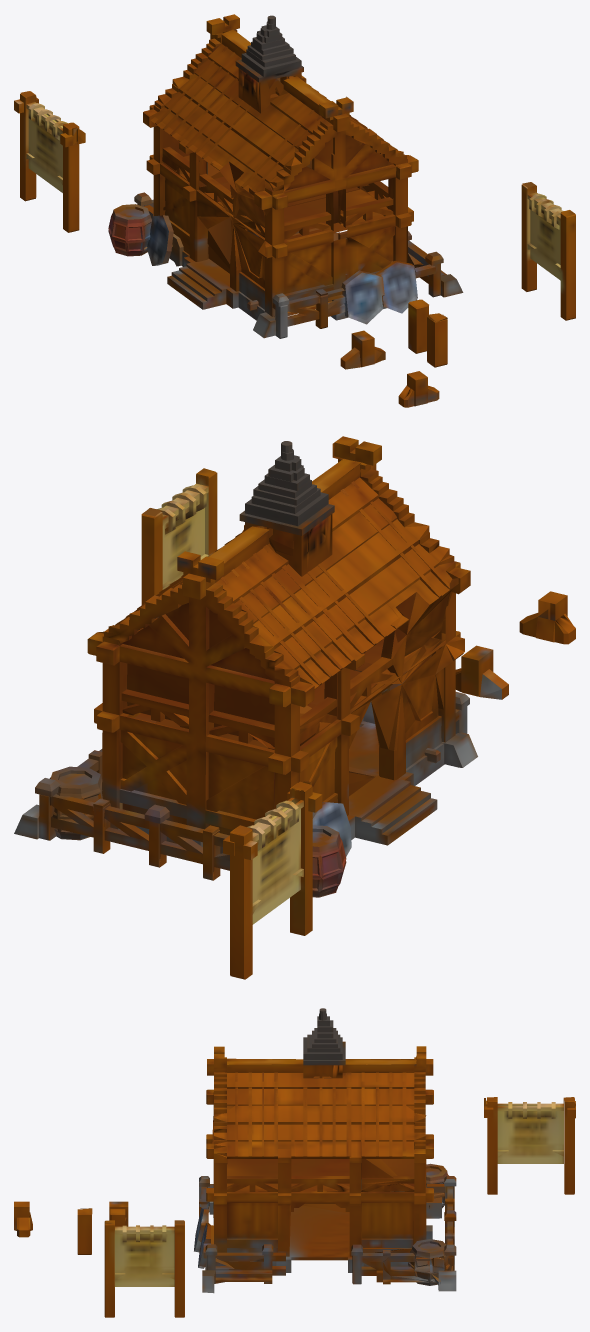
File: barracks.fbx
3 views of the same model, one above another, from view 1: azimuth 30°, elevation 25°; view 2: azimuth 150°, elevation 25°; view 3: azimuth 270°, elevation 25° (orthographic). The views are drawn at different scales.
Parts seen in each view (by area): view 1: texture_pbr_v128; view 2: texture_pbr_v128; view 3: texture_pbr_v128.
Boxes of the visible parts, <box> form: texture_pbr_v128: <box>14,14,575,407</box>; texture_pbr_v128: <box>14,436,575,979</box>; texture_pbr_v128: <box>14,1008,575,1317</box>.
Bounding box in the file's own units: 105 × 86.84 × 190.
Materials: 1 (1 with a texture image).
